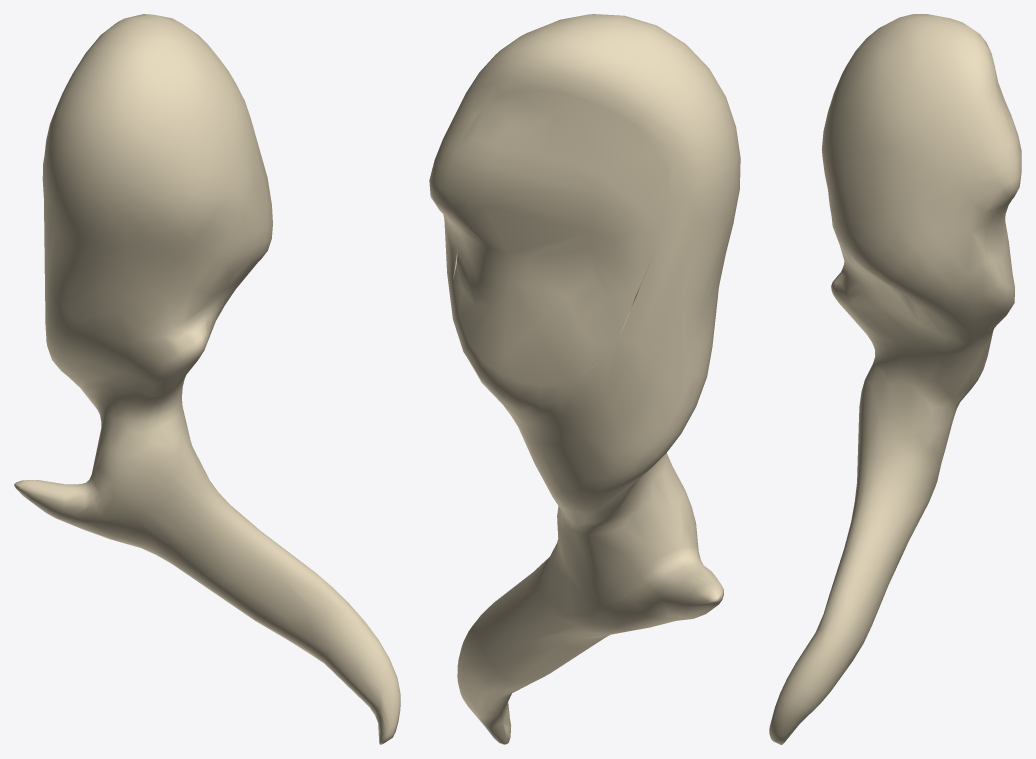
The model's file is esqueleto-malleus-r.glb.
3 views of the same model, side by side, from view 1: azimuth 30°, elevation 25°; view 2: azimuth 150°, elevation 25°; view 3: azimuth 270°, elevation 25° (orthographic). The views are drawn at different scales.
Visible parts, largest first — view 1: Malleus.r; view 2: Malleus.r; view 3: Malleus.r.
Boxes of the visible parts, x1,y1,x2,y2 form: Malleus.r: (14,14,400,744); Malleus.r: (429,14,740,744); Malleus.r: (769,14,1021,744).
Bounding box in the file's own units: 0.00363 × 0.00818 × 0.00288.
